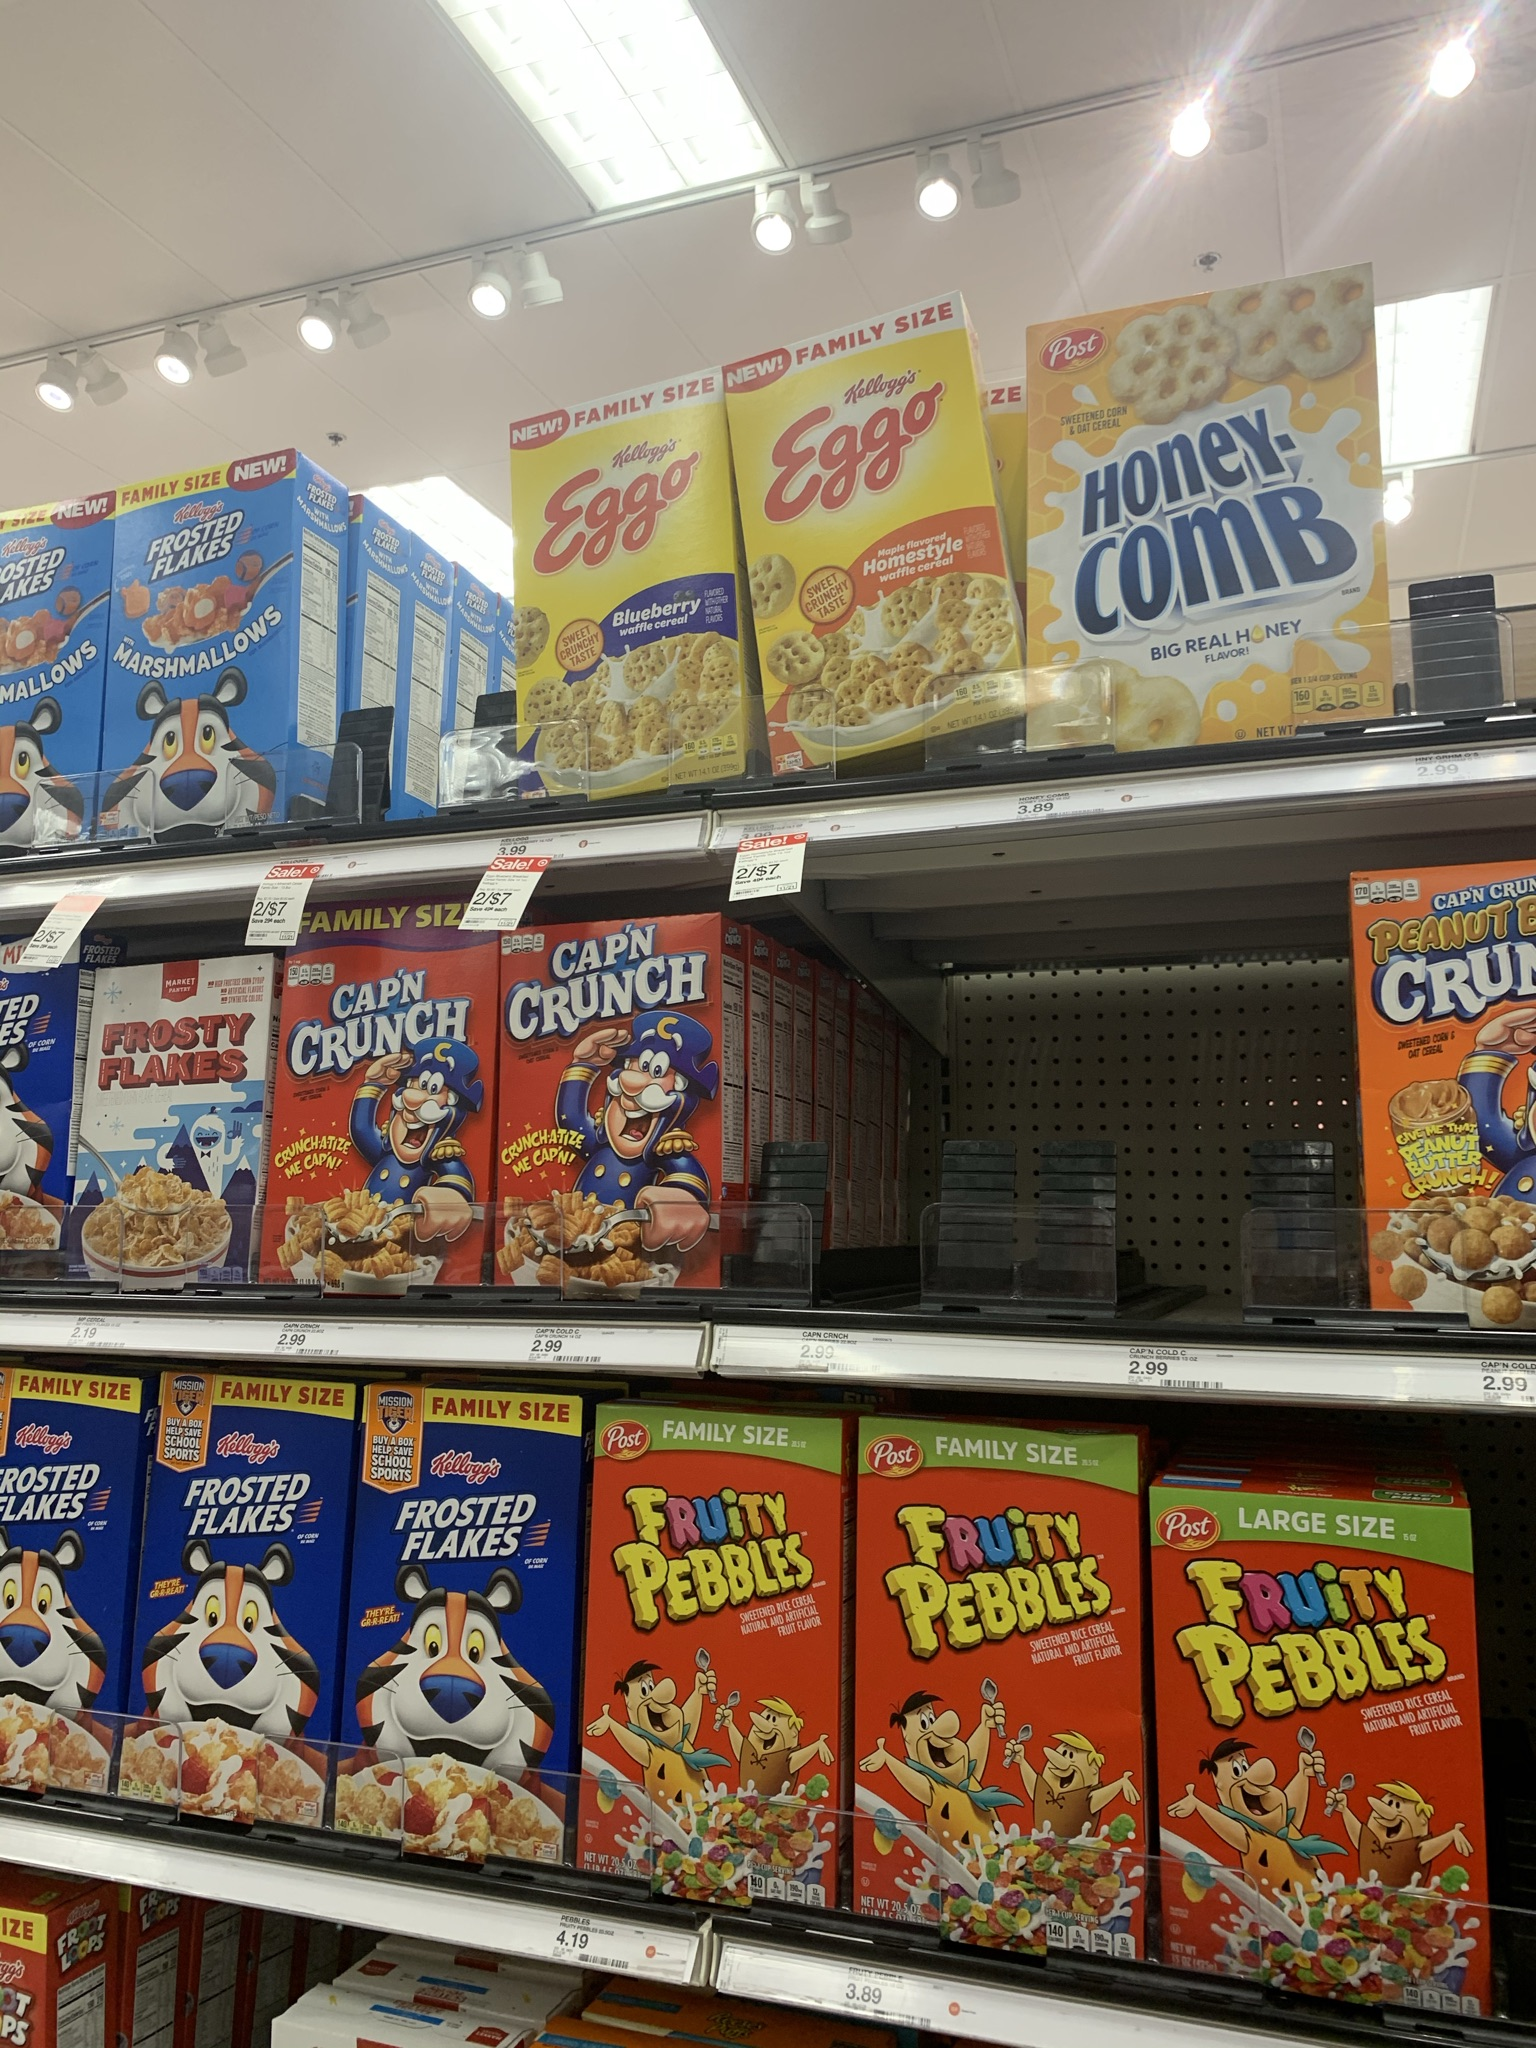Cereal cap n crunch: (1359, 889, 1536, 1288), (511, 947, 716, 1284), (302, 959, 487, 1285)
Cereal eggo: (733, 371, 1012, 755), (507, 431, 757, 793)
Cereal frosty flakes: (382, 1393, 574, 1843), (173, 1380, 324, 1824), (127, 493, 303, 834), (82, 984, 265, 1292), (15, 1393, 118, 1814)
Cereal fruity pebbles: (1157, 1493, 1492, 2014), (871, 1429, 1129, 1925), (607, 1419, 858, 1906)
Cereal honey comb: (1044, 326, 1409, 685)
